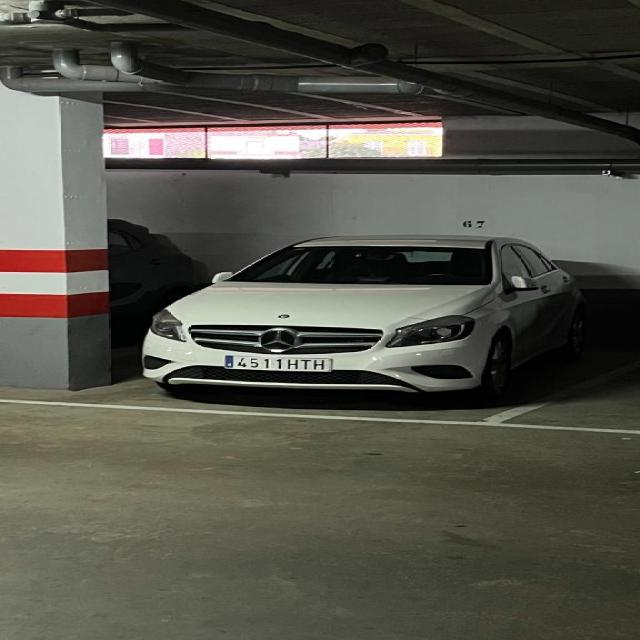License-Plate: (222, 354, 331, 373)
